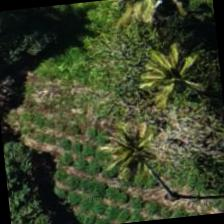Kelapa_Sawit: (124, 22, 222, 121), (118, 139, 215, 223)
